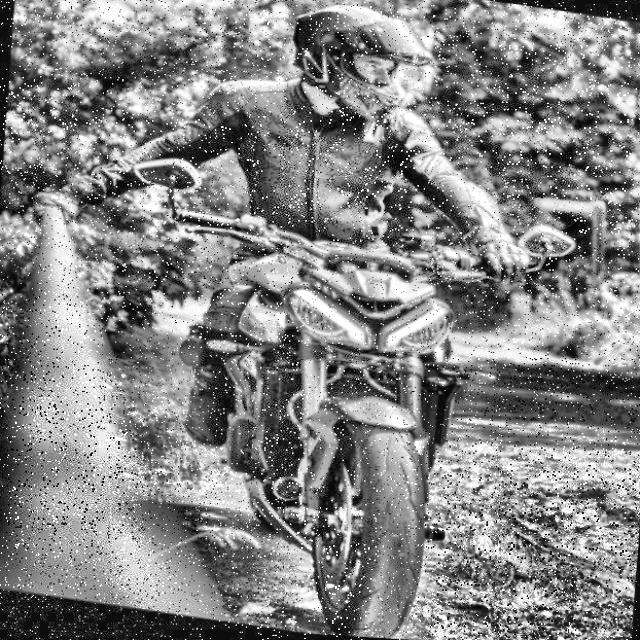Helmet: (278, 0, 448, 138)
